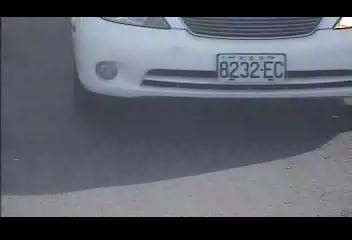plate: (216, 53, 288, 84)
